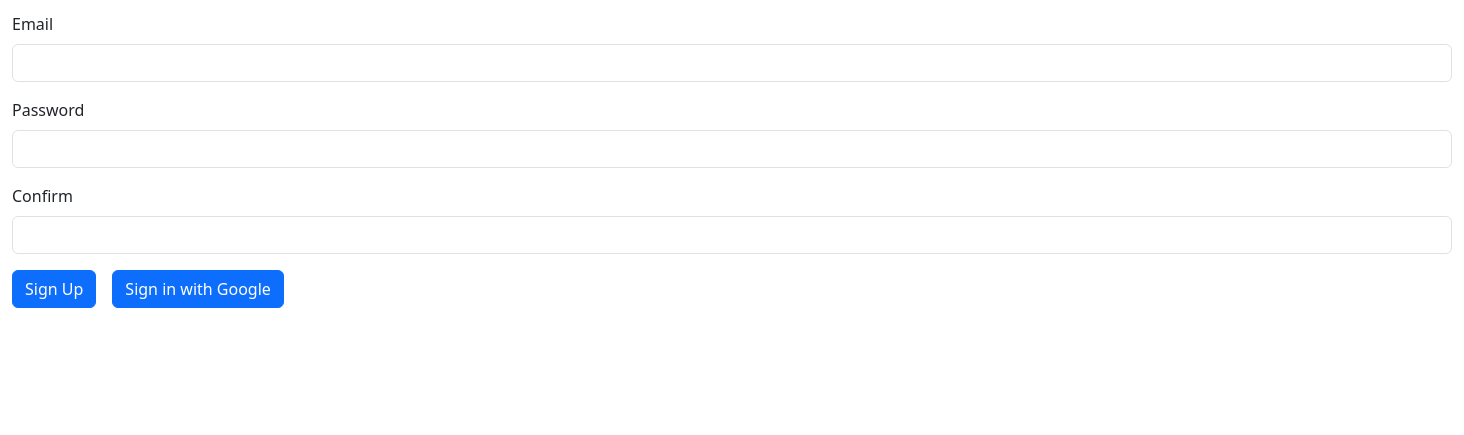
Scenario: sign-up form › shows a styled alert for a password that is too short
The width and height of the screenshot is (1464, 435).
In the field labelled "Email": [732, 63] box [12,44,1452,82], type "person@example.com"
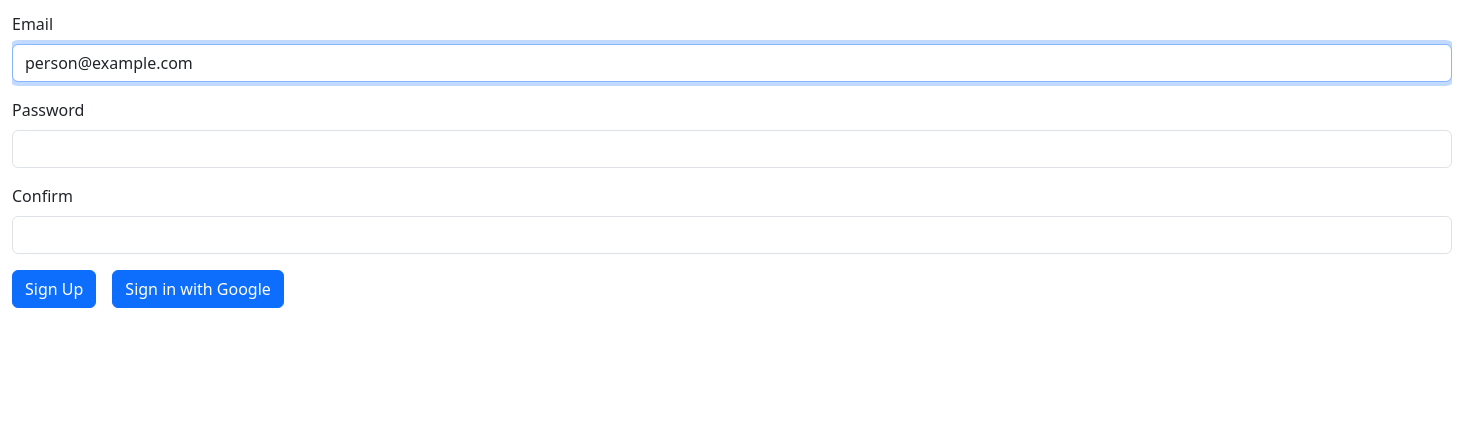
In the password field labelled "Password": [732, 149] box [12,130,1452,168], type "short"
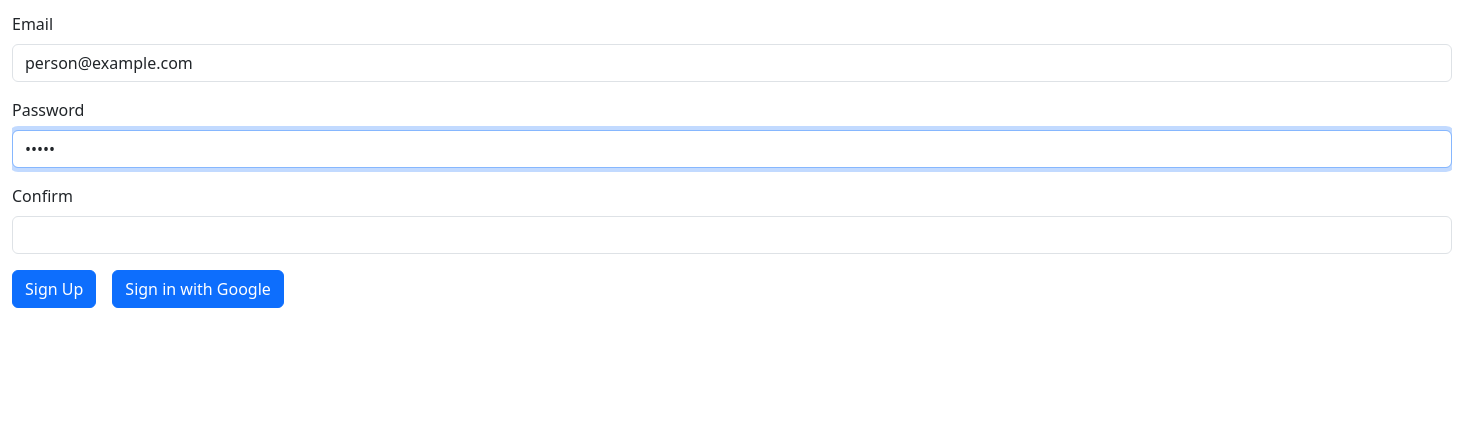
In the password field labelled "Confirm": [732, 235] box [12,216,1452,254], type "short"
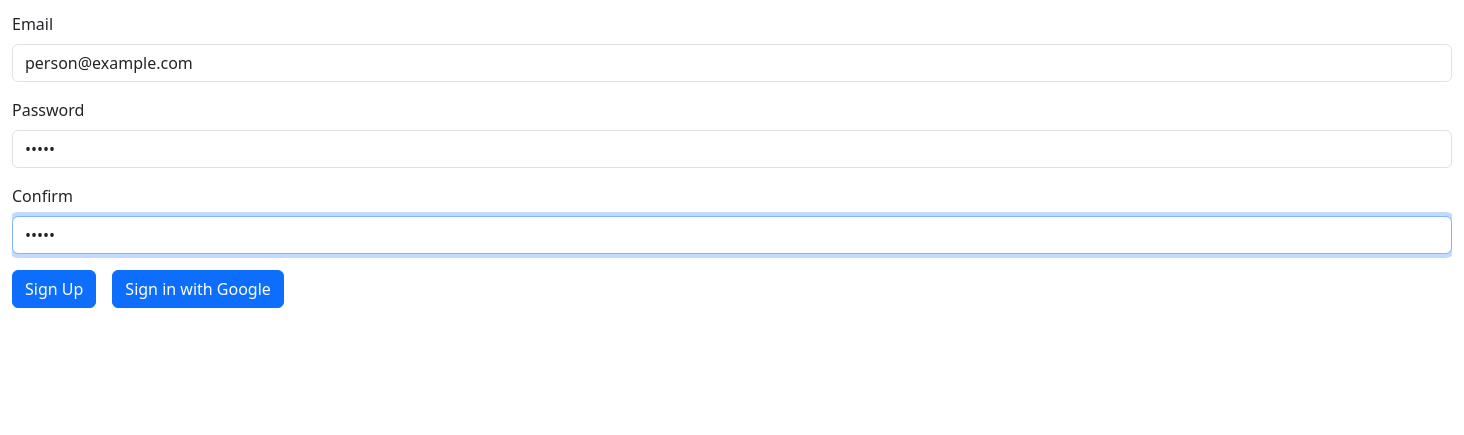
Click the button "Sign Up": [54, 289] box [12,270,96,308]
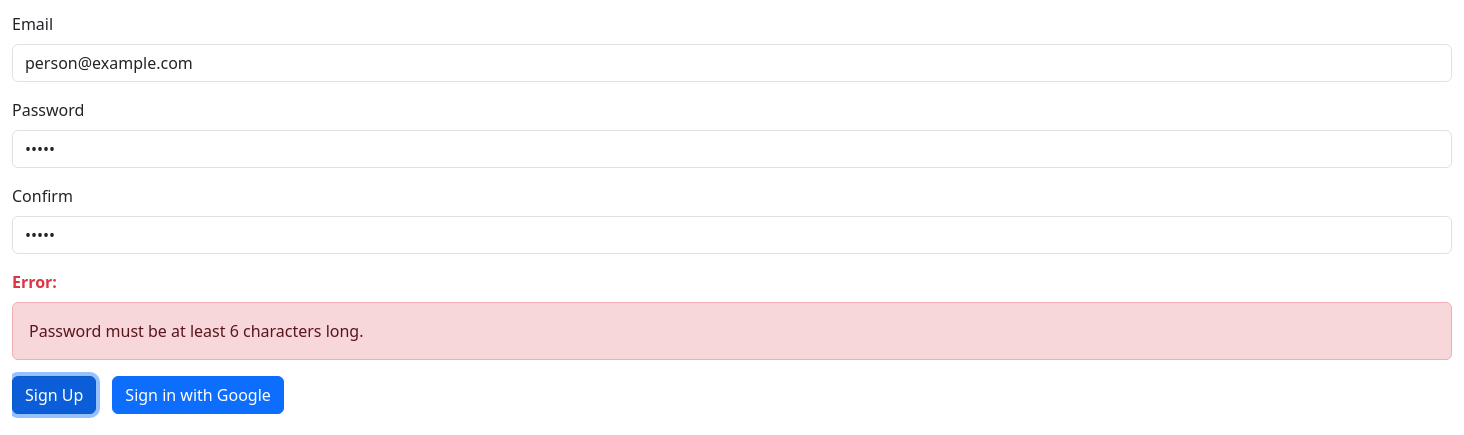
Result: the text "Error:" is shown at [12,271,57,293]
Result: the message shows "at least 6 characters" at [29,320,364,342]
